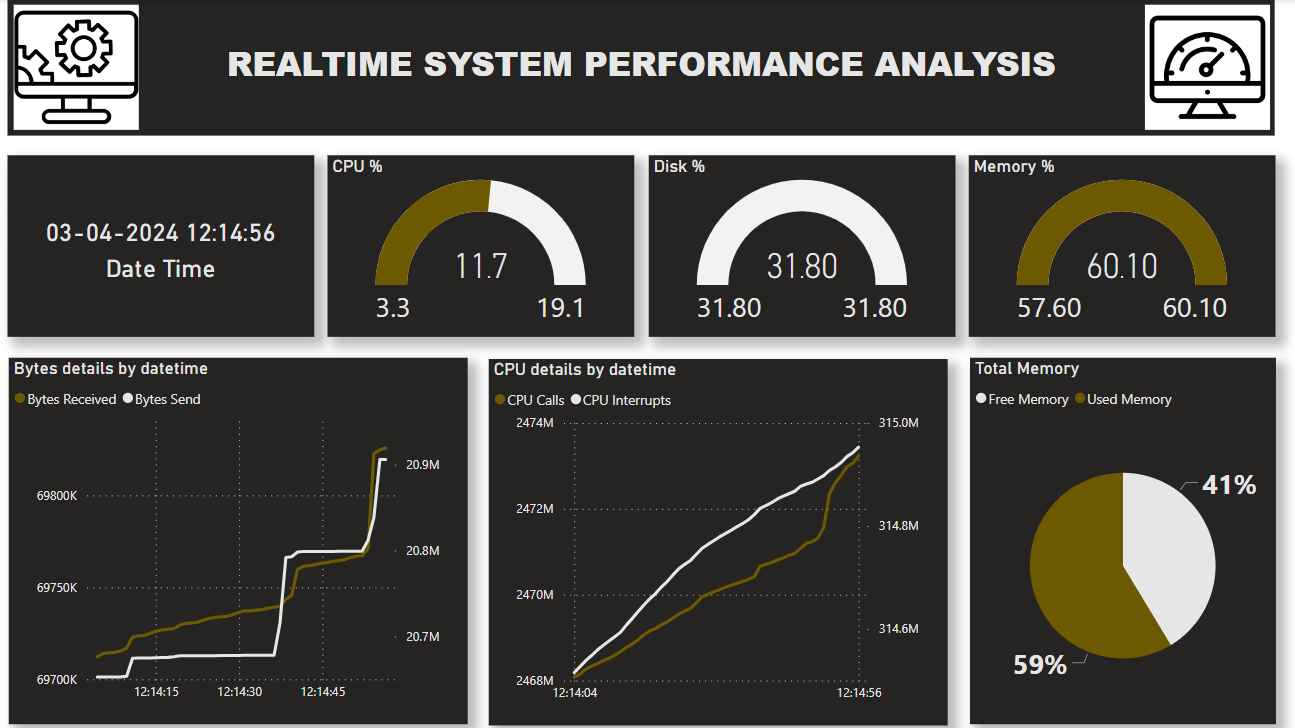

This screenshot's page, from the dashboard's own definition file:
{"tool":"powerbi","page":{"name":"System Metrics","canvas":[1280,720],"ordinal":0},"visuals":[{"type":"card","fields":{"Values":["Max(system_metric.datetime)"]},"box":[12.2,152.8,300,177.2],"z":0},{"type":"gauge","title":"CPU %","fields":{"Y":["system_metric.Latest_CPU_Percent"],"MinValue":["Min(system_metric.cpu_percent)"],"MaxValue":["Max(system_metric.cpu_percent)1"]},"box":[325.6,152.8,300,177.2],"z":1000},{"type":"gauge","title":"Disk %","fields":{"Y":["system_metric.Latest_Disk_Percent"],"MinValue":["Min(system_metric.disk_percent)"],"MaxValue":["Max(system_metric.disk_percent)"]},"box":[638.9,152.8,300,177.2],"z":2000},{"type":"gauge","title":"Memory %","fields":{"Y":["system_metric.Latest_Memory_Percent"],"MinValue":["Min(system_metric.memory_percent)"],"MaxValue":["Max(system_metric.memory_percent)"]},"box":[952.3,152.8,300,177.2],"z":3000},{"type":"textbox","box":[12.2,0,1239.5,133.2],"z":4000},{"type":"lineChart","title":"Bytes details by datetime","fields":{"Y":["Sum(system_metric.bytes_received)"],"Y2":["Sum(system_metric.bytes_sent)"],"Category":["system_metric.datetime"]},"box":[13.4,350.8,448.6,358.2],"z":5000},{"type":"lineChart","title":"CPU details by datetime","fields":{"Y":["Sum(system_metric.cpu_calls)"],"Y2":["Sum(system_metric.cpu_interrupts)"],"Category":["system_metric.datetime"]},"box":[483.2,352.1,448.6,358.2],"z":6000},{"type":"pieChart","title":"Total Memory","fields":{"Y":["Sum(system_metric.memory_free)","Sum(system_metric.memory_used)"]},"box":[953,351,299,358],"z":7000},{"type":"image","box":[13.4,0,132,133.2],"z":7001},{"type":"image","box":[1119.7,0,132,133.2],"z":7002}]}

Visuals, with their boxes in screenshot pixels (x1, y1, x2, y2), scaled from the page's 1280x720 canvas onto the 1295x728 screenshot:
card - Max(system_metric.datetime): Rect(12, 154, 316, 334)
"CPU %" gauge: Rect(329, 154, 633, 334)
"Disk %" gauge: Rect(646, 154, 950, 334)
"Memory %" gauge: Rect(963, 154, 1267, 334)
textbox: Rect(12, 0, 1266, 135)
"Bytes details by datetime" lineChart: Rect(14, 355, 467, 717)
"CPU details by datetime" lineChart: Rect(489, 356, 943, 718)
"Total Memory" pieChart: Rect(964, 355, 1267, 717)
image: Rect(14, 0, 147, 135)
image: Rect(1133, 0, 1266, 135)
